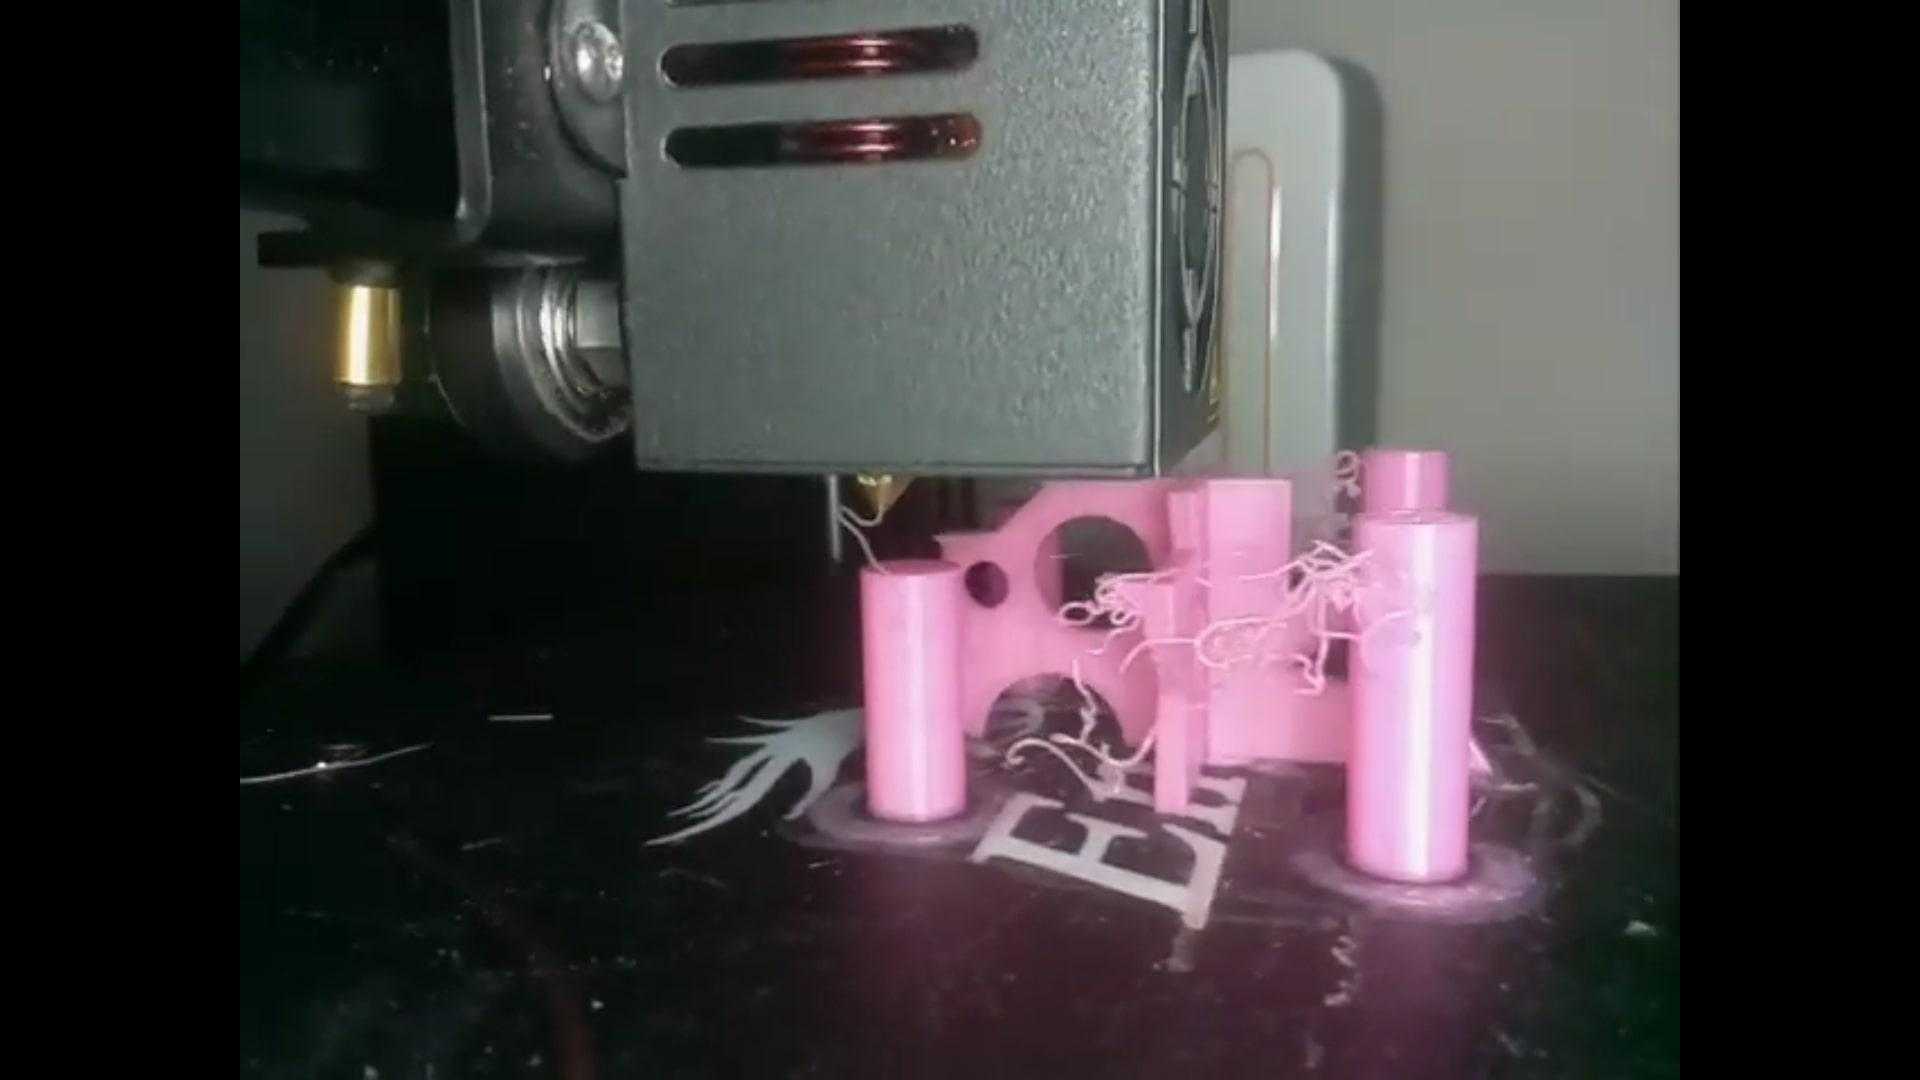Printing-Artifact: (1211, 517, 1364, 692)
